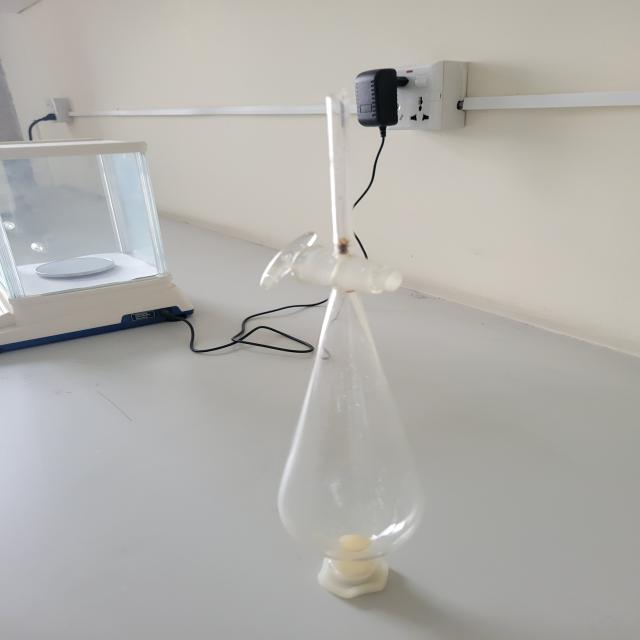Separating_Funnel: (259, 75, 441, 620)
